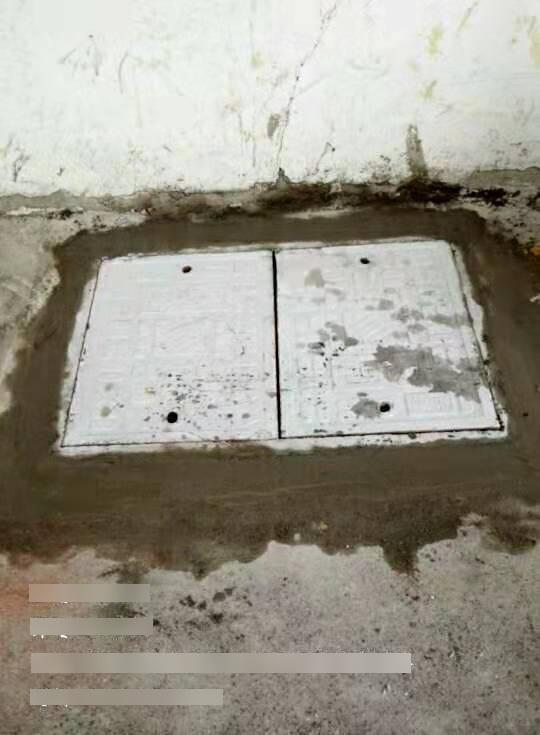wellcover: (38, 244, 519, 460)
